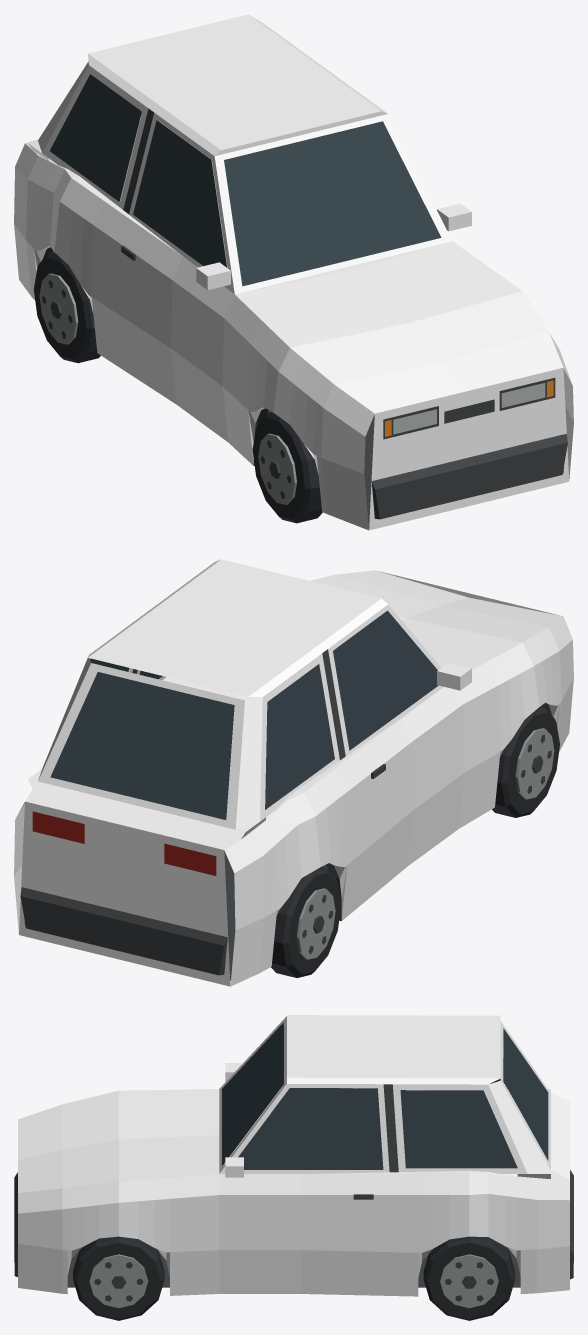
The model's file is hozuki_harusame_gt.glb.
3 views of the same model, one above another, from view 1: azimuth 30°, elevation 25°; view 2: azimuth 150°, elevation 25°; view 3: azimuth 270°, elevation 25° (orthographic). The views are drawn at different scales.
Visible parts, largest first — view 1: hozuki_harusame_gt; view 2: hozuki_harusame_gt; view 3: hozuki_harusame_gt.
Boxes of the visible parts, bbox=[...] form: hozuki_harusame_gt: bbox=[14, 14, 573, 530]; hozuki_harusame_gt: bbox=[14, 559, 573, 986]; hozuki_harusame_gt: bbox=[14, 1015, 573, 1320].
Size of the model in its own units: 1.6 by 1.62 by 3.64.
Materials: 8 (1 with a texture image).
